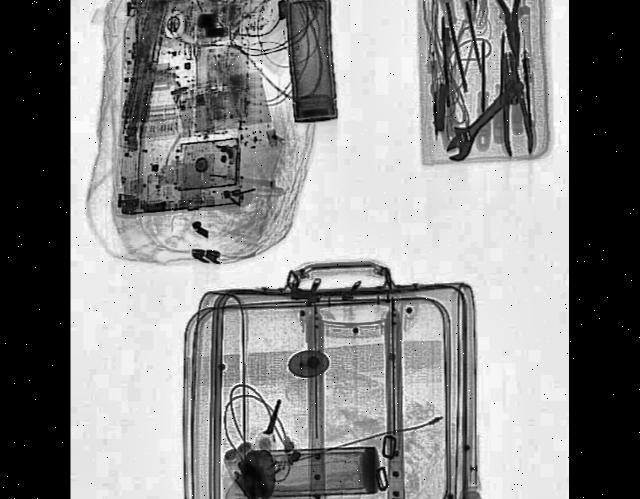Pliers: (492, 50, 535, 158), (488, 0, 533, 66)
Wrench: (438, 65, 529, 168)
